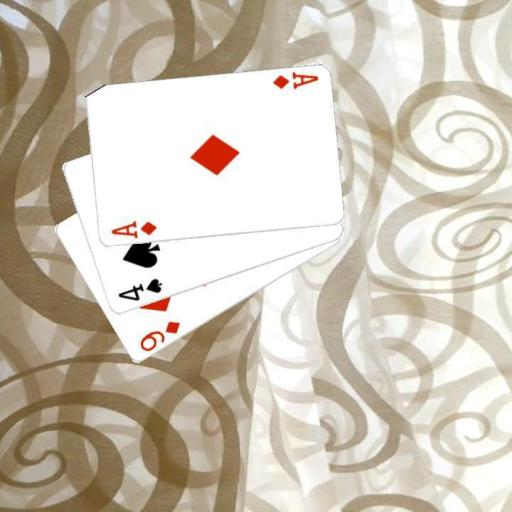card-corner: (136, 318, 181, 354), (114, 275, 164, 303), (108, 218, 158, 240), (270, 70, 320, 91)
